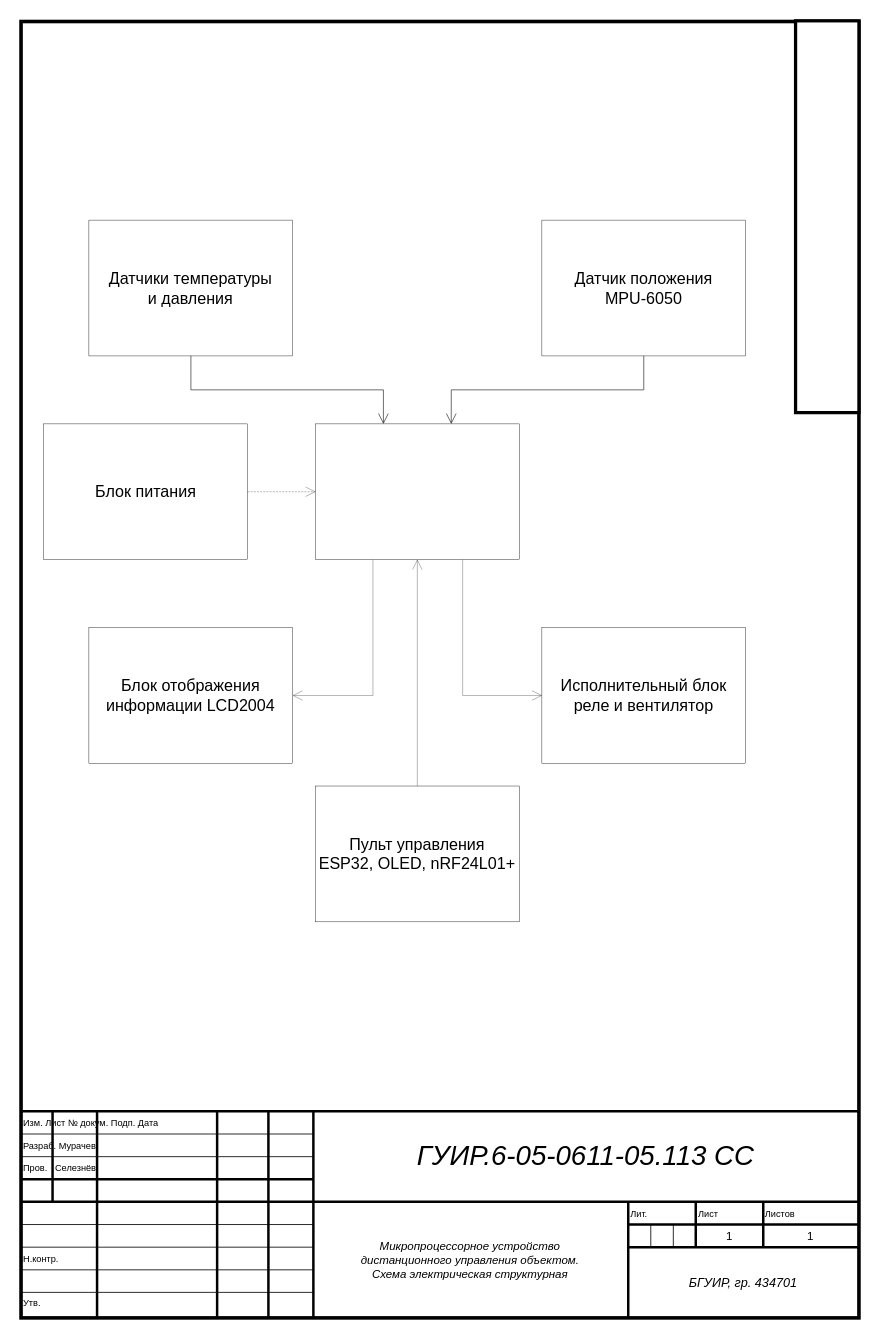
This 882x1341 diagram has some shape labels left out. Each missing label, with the box of its shape:
ГУИР.6-05-0611-05.114 СС: (793, 19, 860, 414)
Микропроцессорный блок мозга ESP32: (315, 423, 519, 559)
